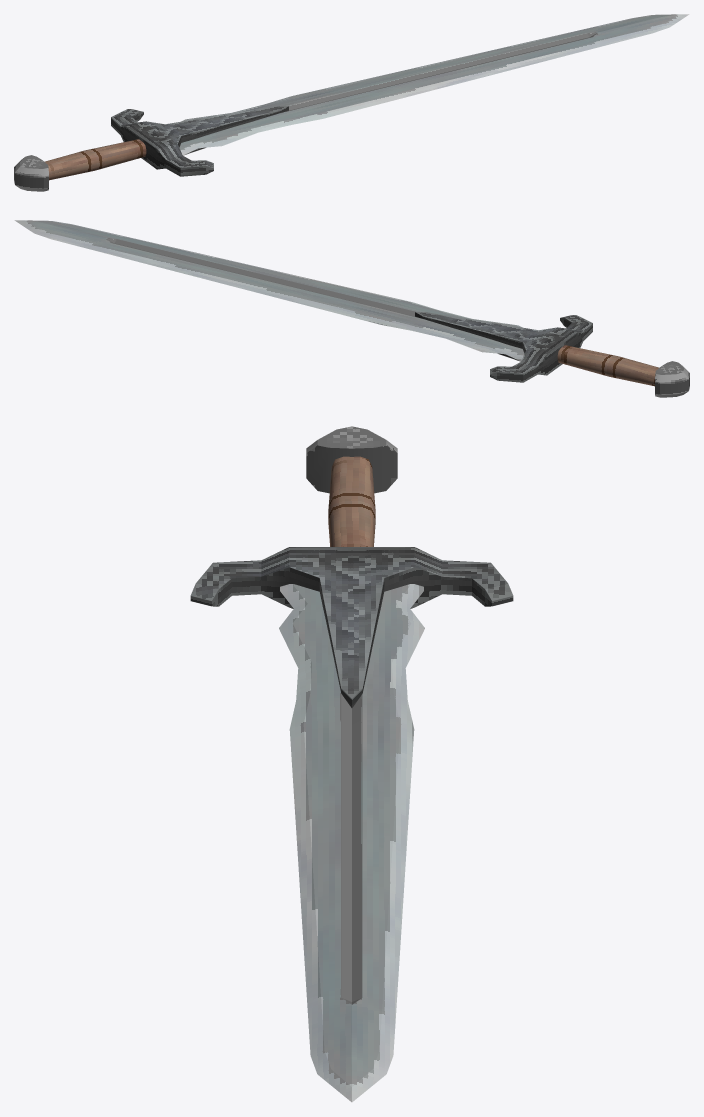
The model's file is sword.glb.
3 views of the same model, one above another, from view 1: azimuth 30°, elevation 25°; view 2: azimuth 150°, elevation 25°; view 3: azimuth 270°, elevation 25° (orthographic). The views are drawn at different scales.
Parts seen in each view (by area): view 1: sword; view 2: sword; view 3: sword.
Part boxes in pixels (x1,y1,x2,y2): sword: [14, 14, 689, 191]; sword: [14, 220, 689, 397]; sword: [190, 426, 513, 1102].
Bounding box in the file's own units: 1.83 × 0.0588 × 0.3782.
Materials: 1 (1 with a texture image).
